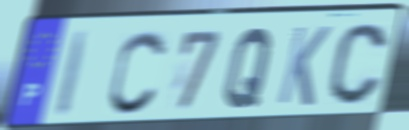7: (176, 27, 221, 113)
C: (325, 20, 391, 107), (107, 27, 170, 118)
I: (52, 29, 94, 121)
K: (274, 23, 334, 109)
Q: (221, 25, 276, 112)
